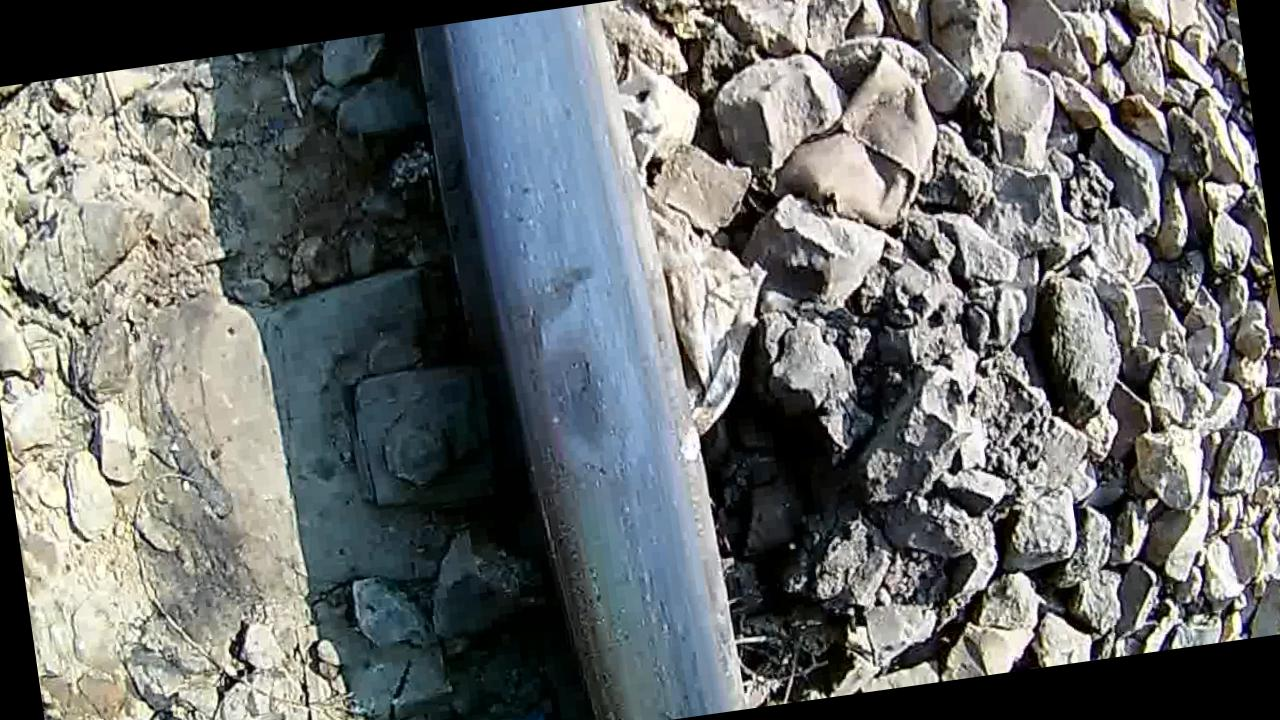bolt_missing: (478, 219, 674, 577)
